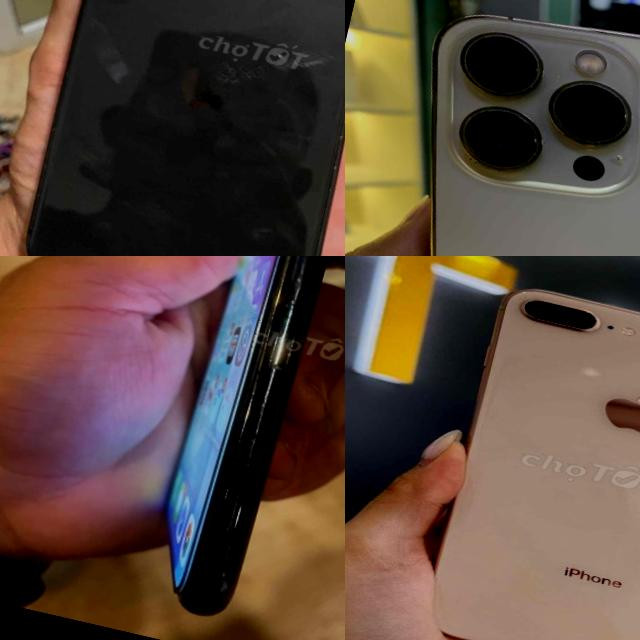gen_11: (5, 0, 345, 256), (164, 256, 326, 614)
gen_12_13: (345, 0, 640, 256)
gen_7_8: (434, 289, 640, 640)
scratch: (183, 8, 344, 142), (228, 288, 324, 478), (12, 104, 84, 254), (194, 479, 270, 590), (69, 16, 155, 102), (272, 256, 335, 293)
